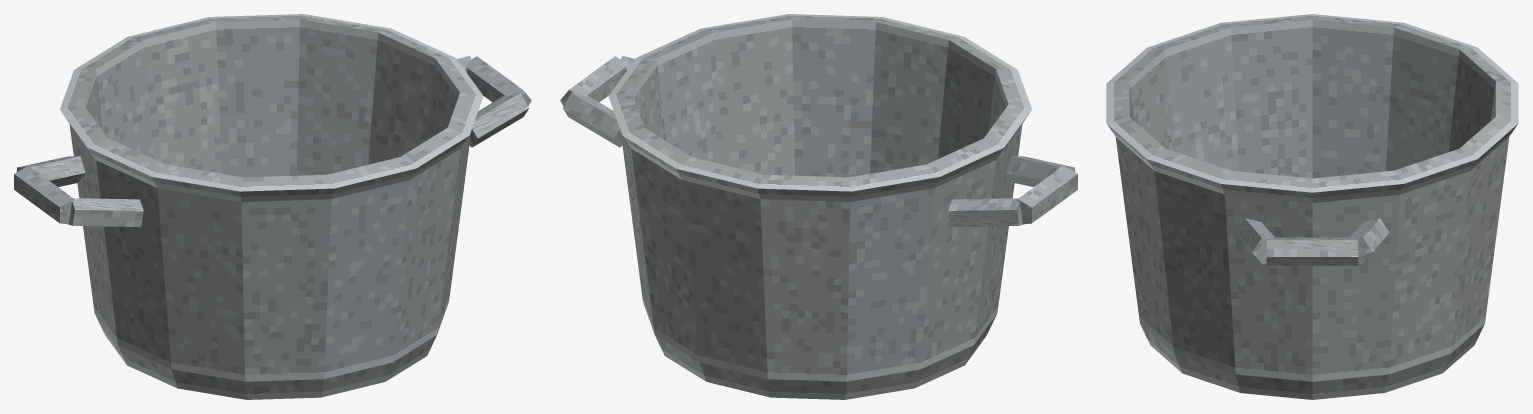
The model's file is stock_pot.glb.
3 renders of one model, left to right at view 1: azimuth 30°, elevation 25°; view 2: azimuth 150°, elevation 25°; view 3: azimuth 270°, elevation 25°, orthographic.
Visible parts, largest first — view 1: block_open vessel, block_side handle 2 (×2), block_side handle 1 (×2), block_side handle 0; view 2: block_open vessel, block_side handle 0 (×2), block_side handle 1 (×2), block_side handle 2; view 3: block_open vessel, block_side handle 1, block_side handle 0, block_side handle 2.
Part boxes in pixels (x1,y1,x2,y2): block_open vessel: (60, 14, 483, 399); block_side handle 2 (×2): (68, 92, 528, 227); block_side handle 1 (×2): (14, 56, 531, 224); block_side handle 0: (16, 156, 85, 186); block_open vessel: (608, 14, 1031, 399); block_side handle 0 (×2): (563, 92, 1023, 227); block_side handle 1 (×2): (560, 56, 1077, 224); block_side handle 2: (1006, 156, 1075, 186); block_open vessel: (1106, 14, 1518, 399); block_side handle 1: (1266, 237, 1358, 265); block_side handle 0: (1350, 218, 1389, 264); block_side handle 2: (1235, 218, 1274, 264).
Bounding box in the file's own units: 0.25 × 0.1173 × 0.1901.
2 materials, 2 textured.
